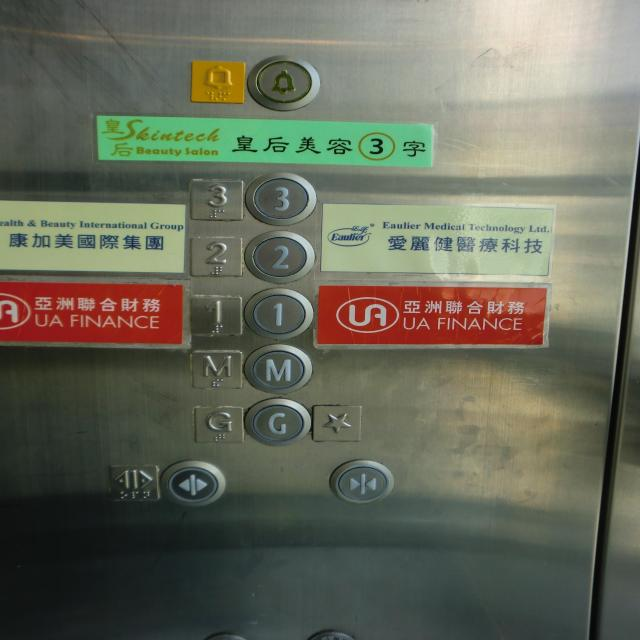1: (242, 286, 316, 342), (186, 292, 243, 338)
2: (243, 228, 317, 284), (187, 234, 244, 278)
3: (245, 170, 318, 227), (187, 176, 245, 222)
G: (242, 396, 311, 448), (191, 403, 245, 445)
M: (243, 342, 315, 395), (187, 348, 244, 391)
alarm: (246, 52, 322, 112), (188, 58, 247, 105)
close: (326, 456, 396, 506)
open: (162, 458, 226, 509), (106, 462, 160, 502)
s: (310, 403, 364, 443)
